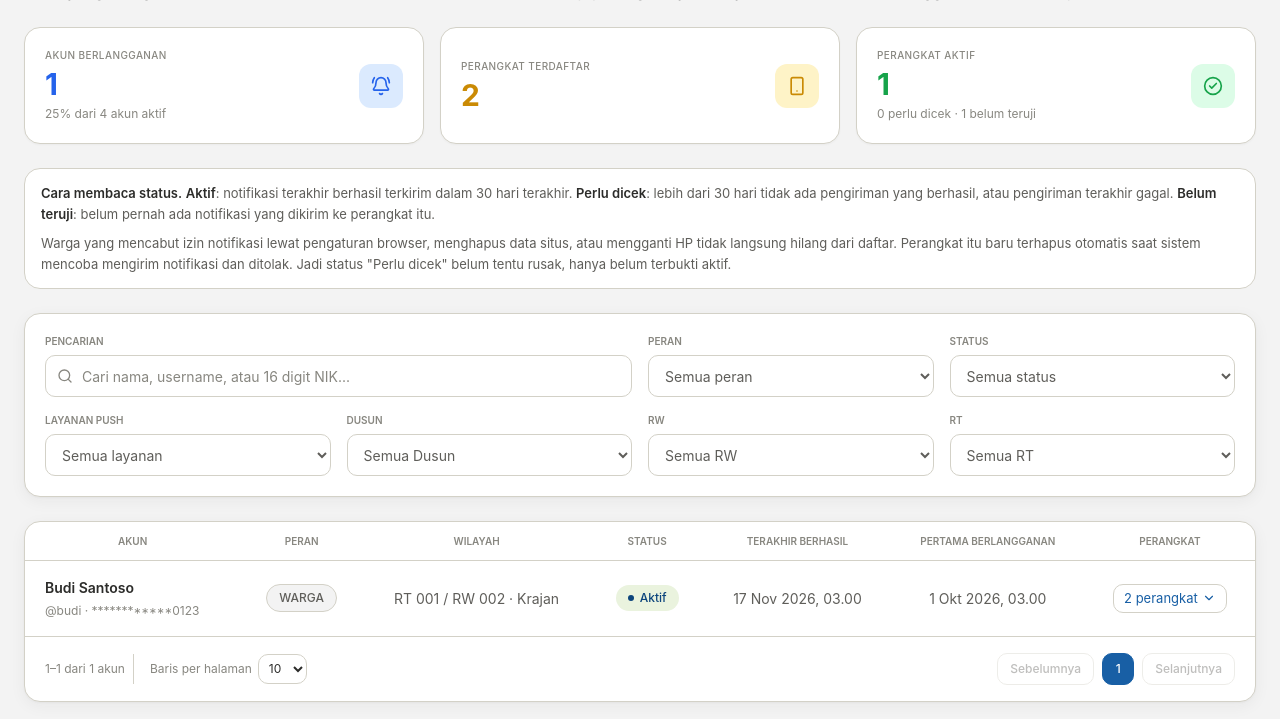
Test: PelangganNotifikasiPage › expands the device list of an account
Expected: the text "Chrome · Android" is not shown
Click the button "2 perangkat" at (1170, 598), box [1113,584,1227,613]
(page scrolled)
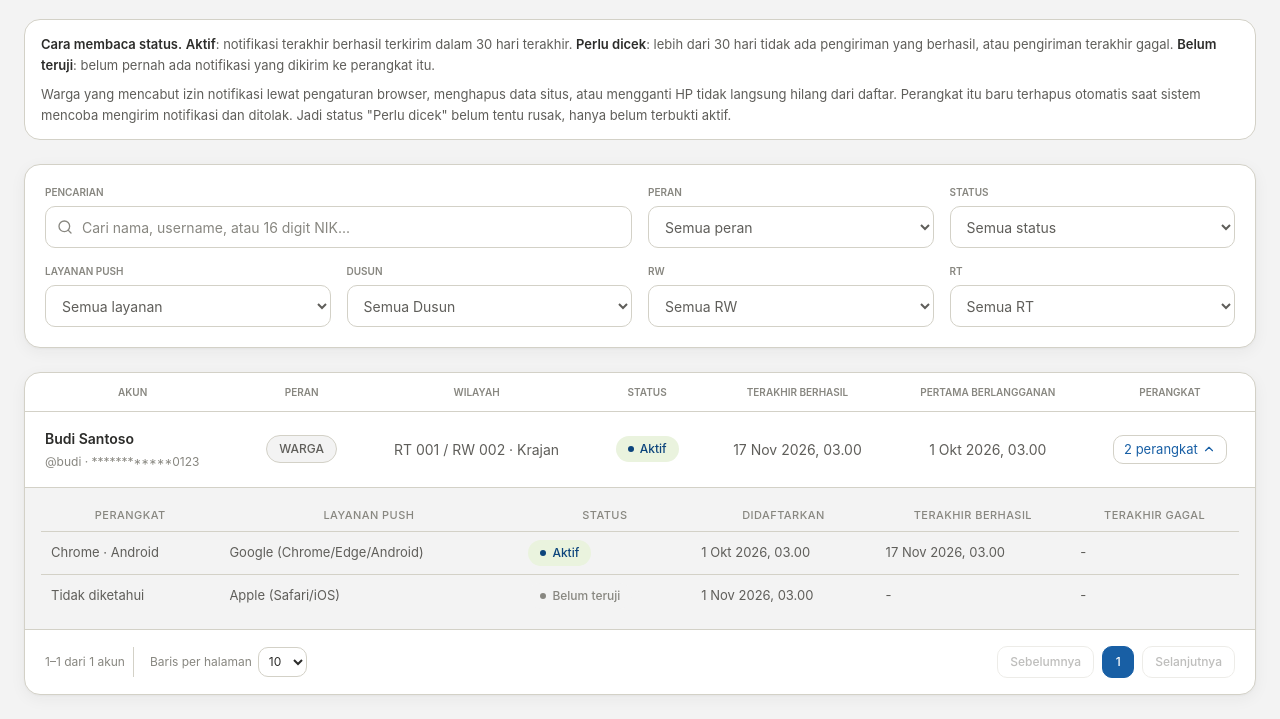
Result: the button "2 perangkat" is expanded at [1113,435,1227,464]
Result: the text "Chrome · Android" is shown at [41,532,219,574]
Result: the text "Tidak diketahui" is shown at [41,574,219,617]
